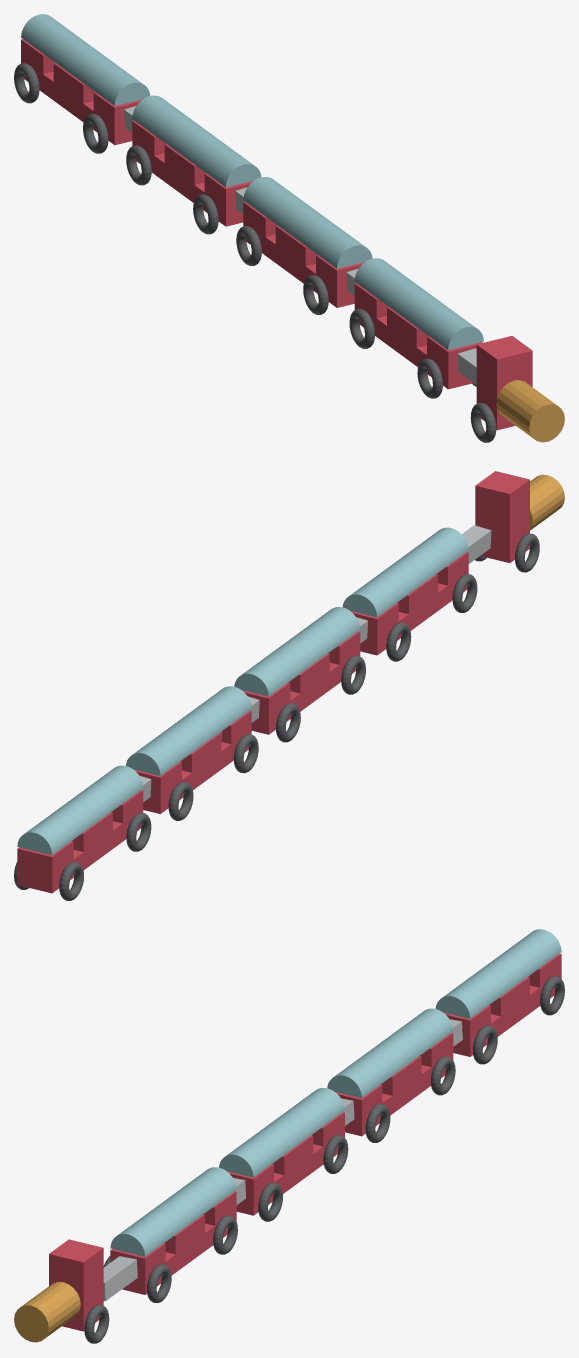
The model's file is Train (1).glb.
3 views of the same model, one above another, from view 1: azimuth 30°, elevation 25°; view 2: azimuth 150°, elevation 25°; view 3: azimuth 330°, elevation 25° (orthographic). The views are drawn at different scales.
Visible parts, largest first — view 1: Mesh_Mesh_head_geo.001_lambert2SG.001; view 2: Mesh_Mesh_head_geo.001_lambert2SG.001; view 3: Mesh_Mesh_head_geo.001_lambert2SG.001.
Part boxes in pixels (bbox=[...]): Mesh_Mesh_head_geo.001_lambert2SG.001: bbox=[14, 14, 564, 442]; Mesh_Mesh_head_geo.001_lambert2SG.001: bbox=[14, 471, 564, 900]; Mesh_Mesh_head_geo.001_lambert2SG.001: bbox=[14, 929, 564, 1343].
Size of the model in its own units: 34 by 46.5 by 502.
